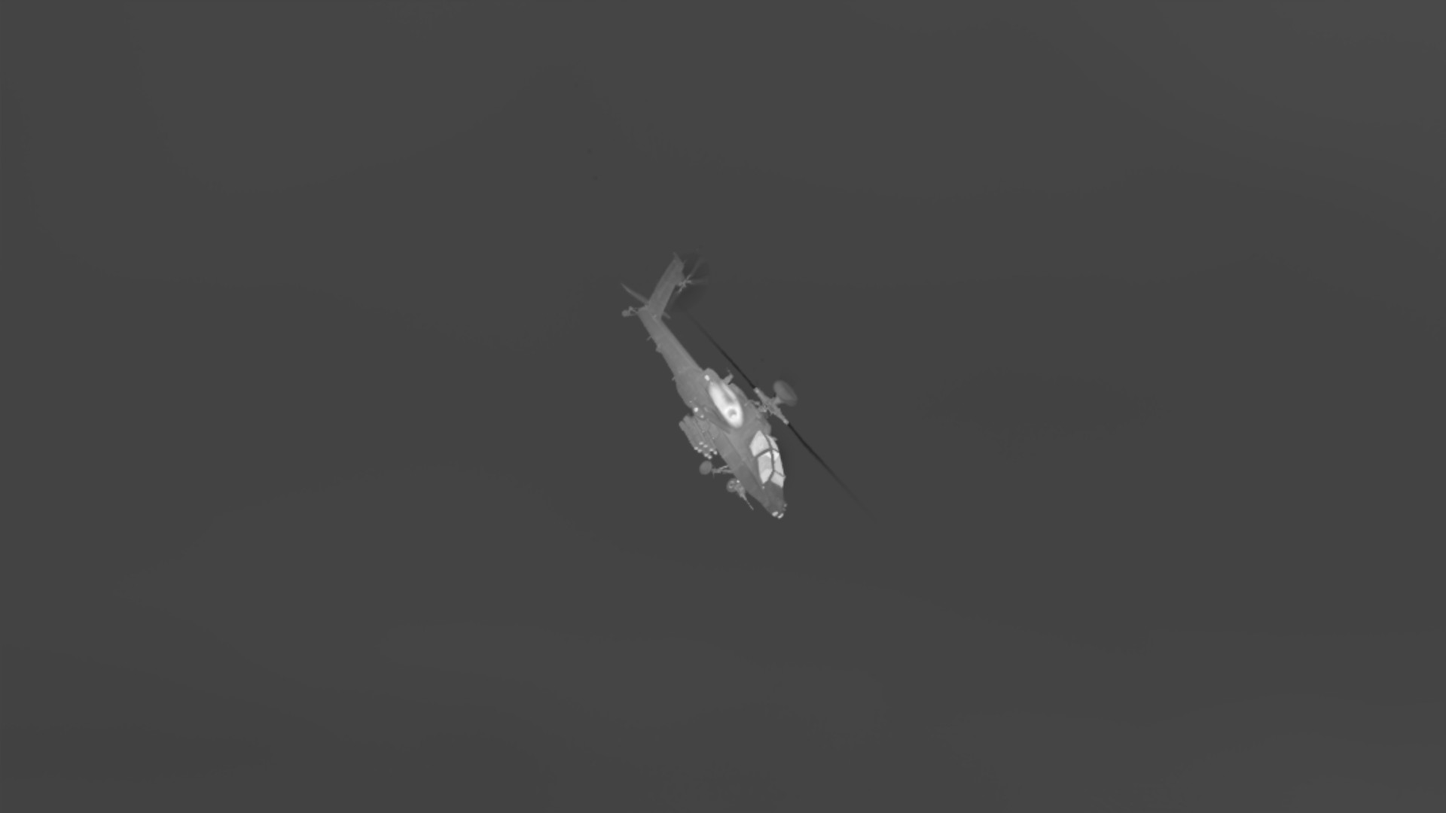ah64: (619, 249, 874, 521)
